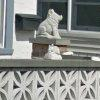Statue: (26, 8, 71, 61)
